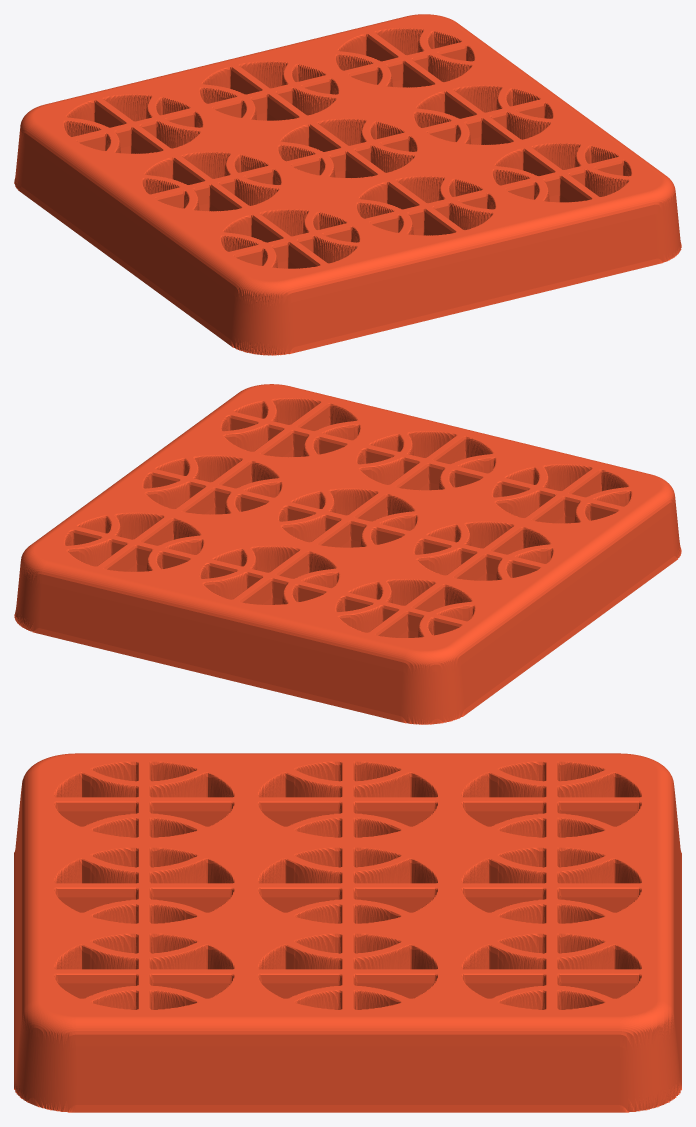
Rendered from mold.glb.
3 views of the same model, one above another, from view 1: azimuth 30°, elevation 25°; view 2: azimuth 150°, elevation 25°; view 3: azimuth 270°, elevation 25° (orthographic). The views are drawn at different scales.
Visible parts, largest first — view 1: geometry_0; view 2: geometry_0; view 3: geometry_0.
Part boxes in pixels (<box>): geometry_0: <box>14,14,681,355</box>; geometry_0: <box>14,384,681,724</box>; geometry_0: <box>14,753,681,1112</box>.
Size of the model in its own units: 0.0964 by 0.0136 by 0.0964.
